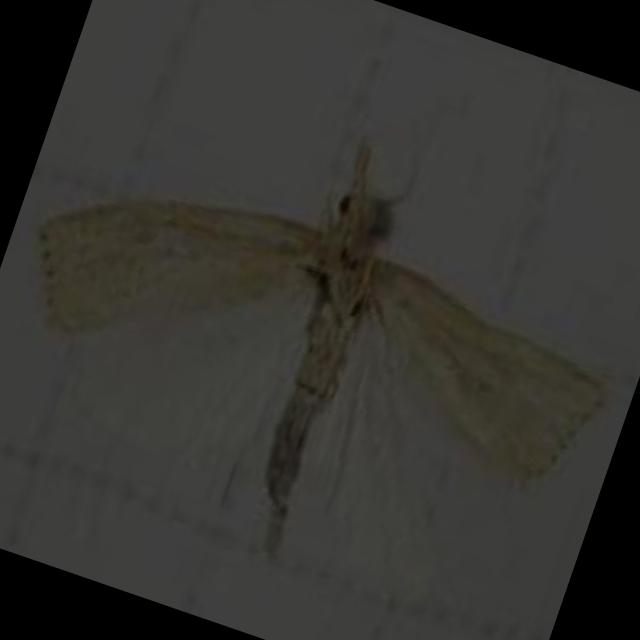stem-borer: (0, 43, 640, 628)
